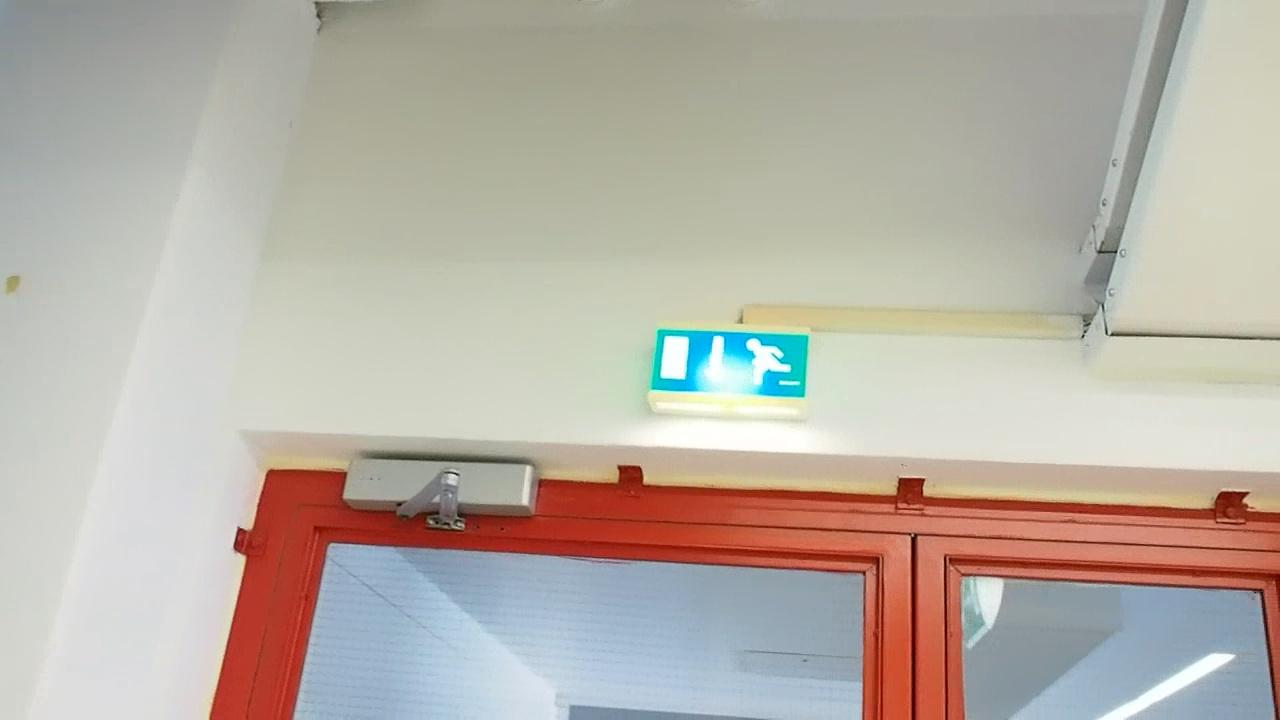exit: (649, 330, 815, 407)
